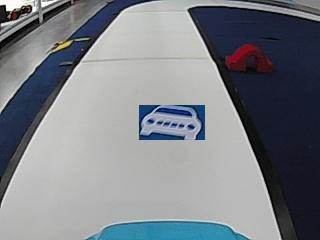bridge: (225, 42, 272, 72)
